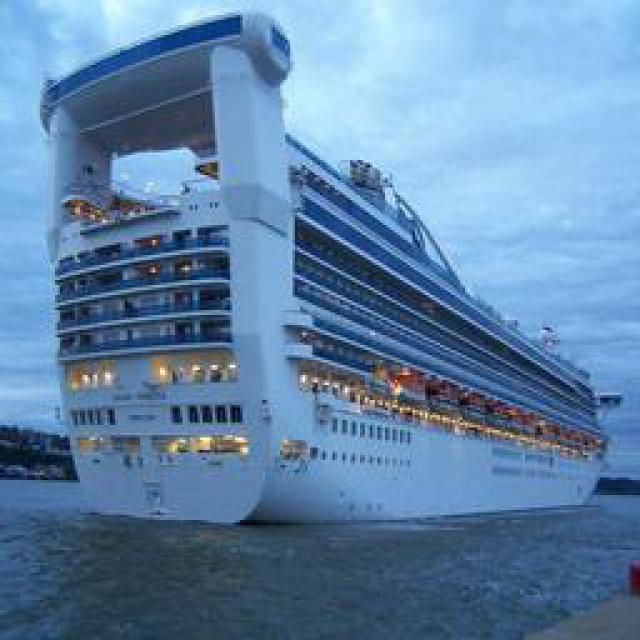Ship: (36, 21, 619, 529)
